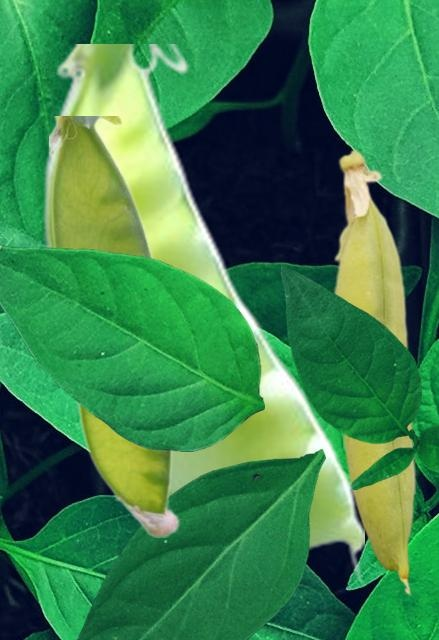pea: (41, 44, 363, 586), (49, 116, 179, 536), (332, 148, 416, 594)
